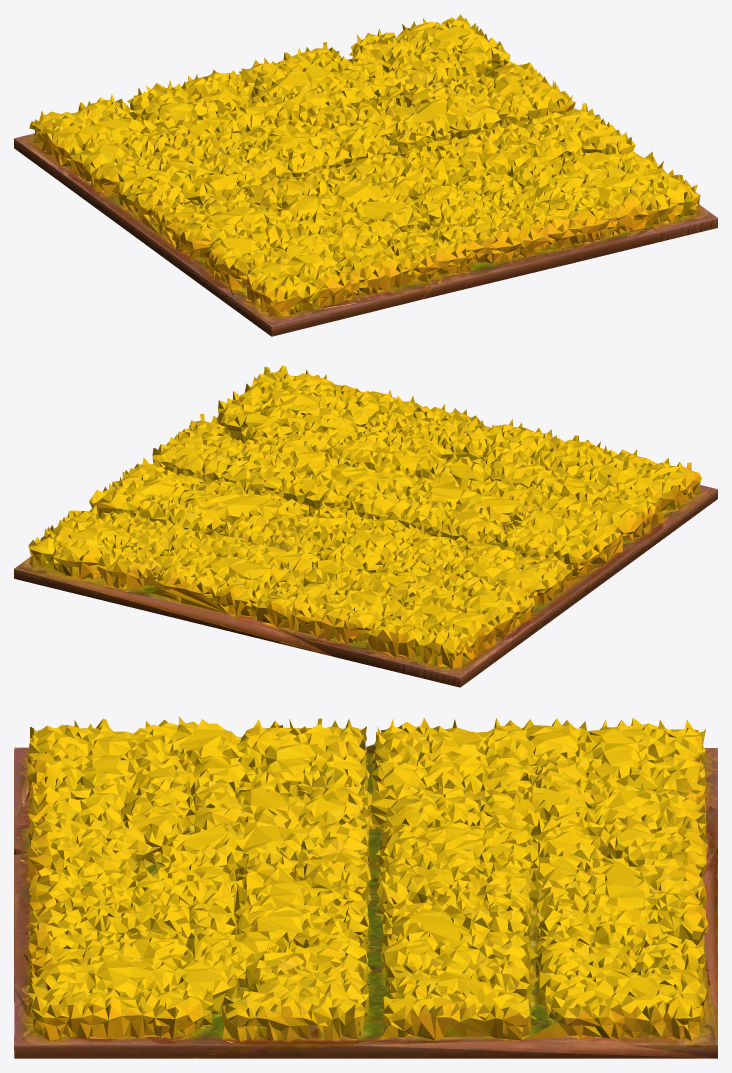
File: wheat_field.glb
The picture shows the model from 3 angles, top to bottom: view 1: azimuth 30°, elevation 25°; view 2: azimuth 150°, elevation 25°; view 3: azimuth 270°, elevation 25°; orthographic projection. The views are drawn at different scales.
Parts seen in each view (by area): view 1: normalize; view 2: normalize; view 3: normalize.
Boxes of the visible parts, box(x1,y1,x2,y2) form: normalize: box(14, 14, 717, 336); normalize: box(14, 365, 717, 687); normalize: box(14, 716, 717, 1058).
Size of the model in its own units: 1 by 0.0781 by 0.9999.
Materials: 1 (1 with a texture image).
